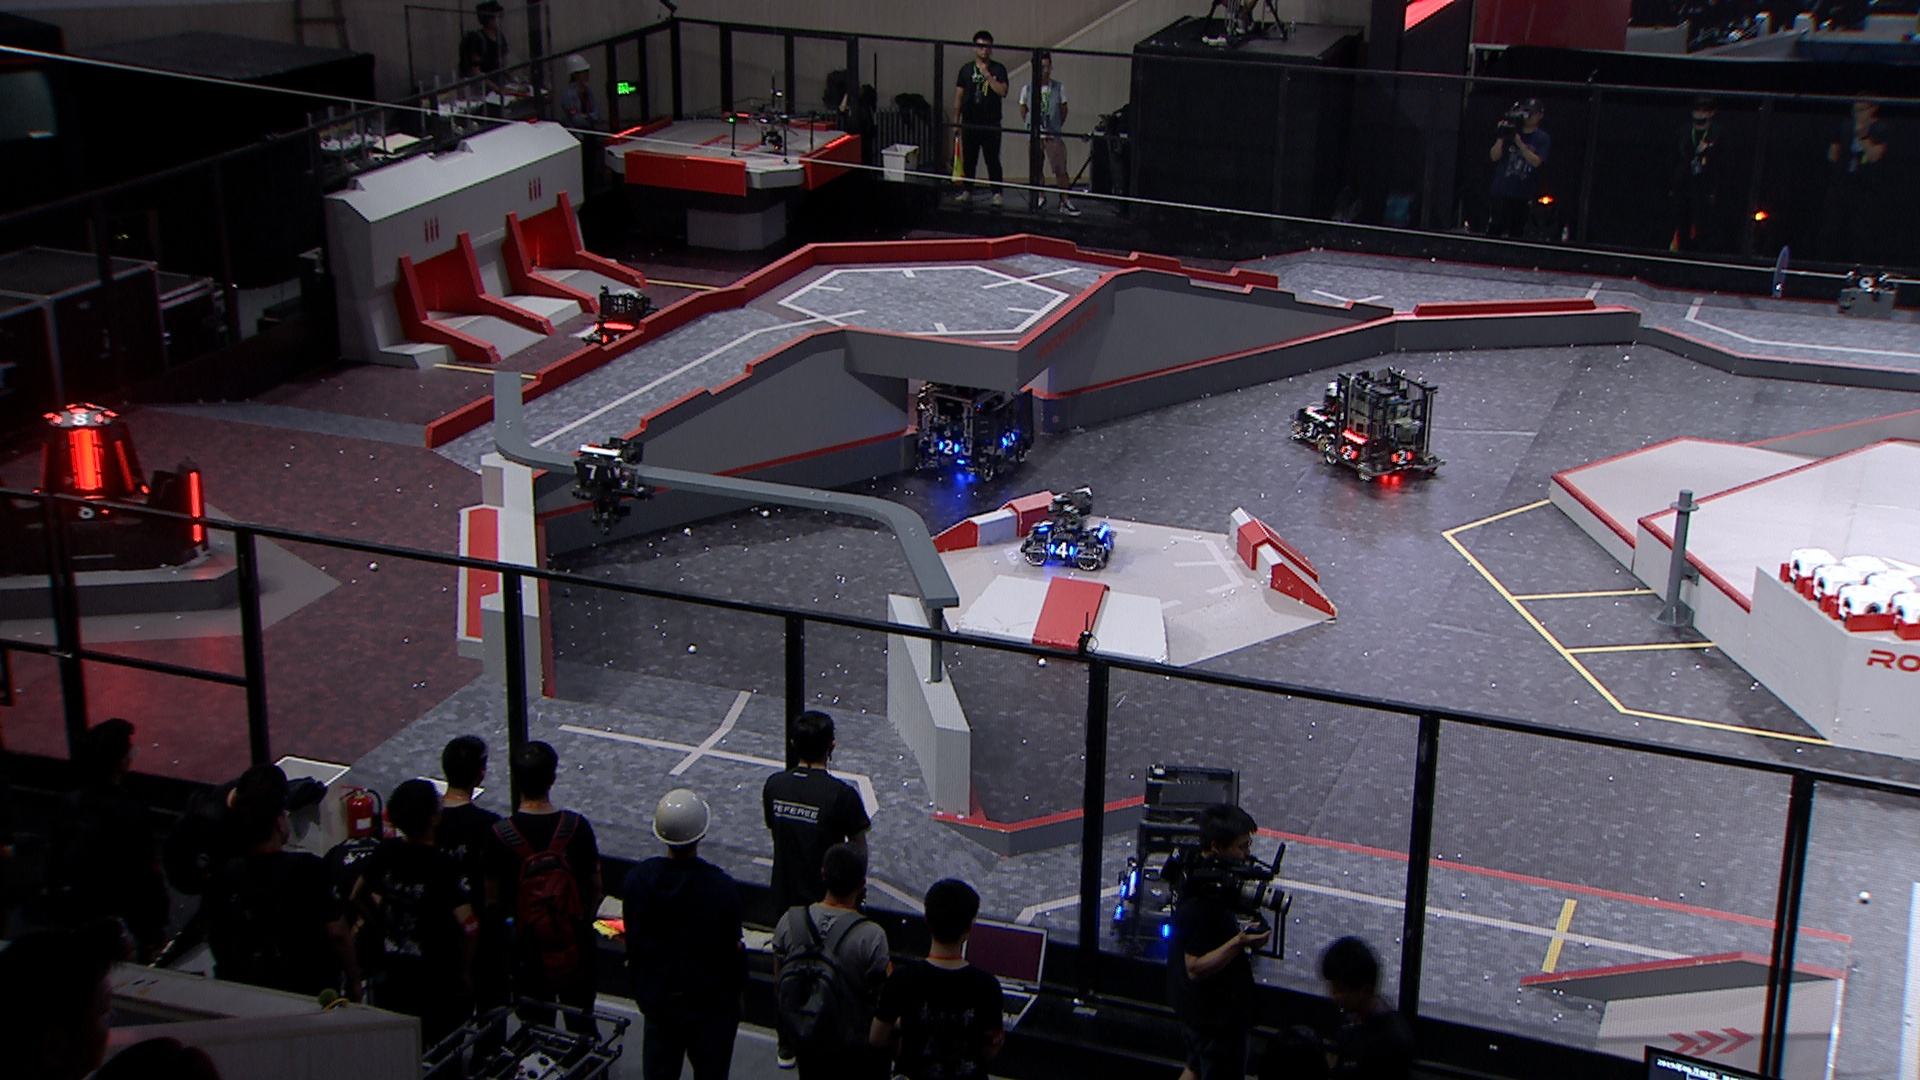armor: (65, 427, 105, 493), (185, 469, 208, 547), (112, 436, 136, 493), (32, 440, 51, 498), (47, 411, 107, 429), (572, 462, 612, 483), (1046, 541, 1077, 560), (74, 505, 109, 522), (997, 429, 1019, 451), (1390, 448, 1415, 467), (1337, 442, 1360, 462), (936, 439, 961, 456), (599, 332, 621, 347), (1035, 518, 1055, 534), (1300, 419, 1316, 439), (1102, 534, 1116, 553)
car: (1112, 764, 1249, 945), (1321, 363, 1447, 488), (910, 371, 1033, 483), (1015, 491, 1116, 571), (578, 286, 670, 361), (1288, 380, 1364, 448)
watcher: (567, 436, 654, 527)
